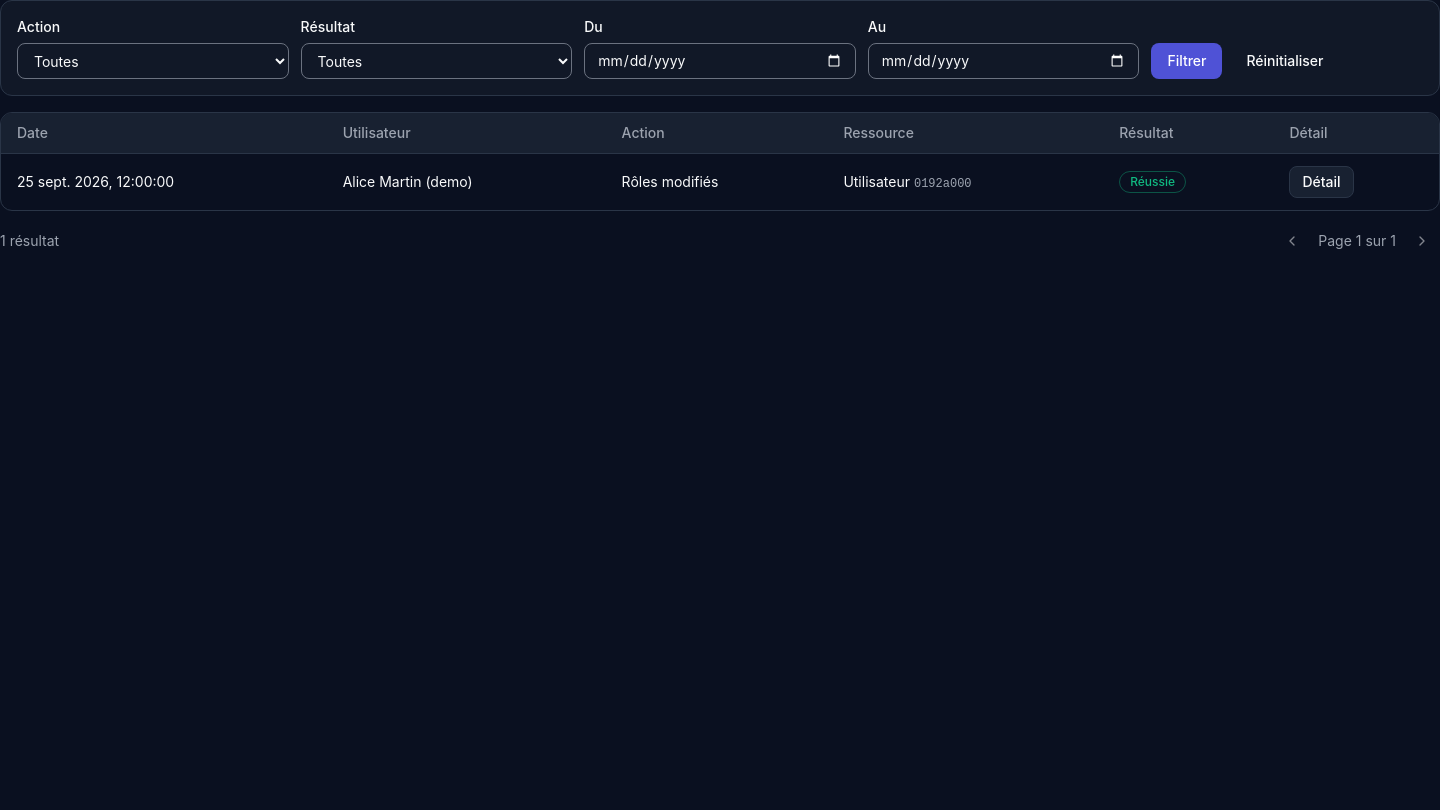
AuditViewer › shows the values before and after the change
Click the button "Détail": {"x": 1322, "y": 182} [1289,166,1354,198]
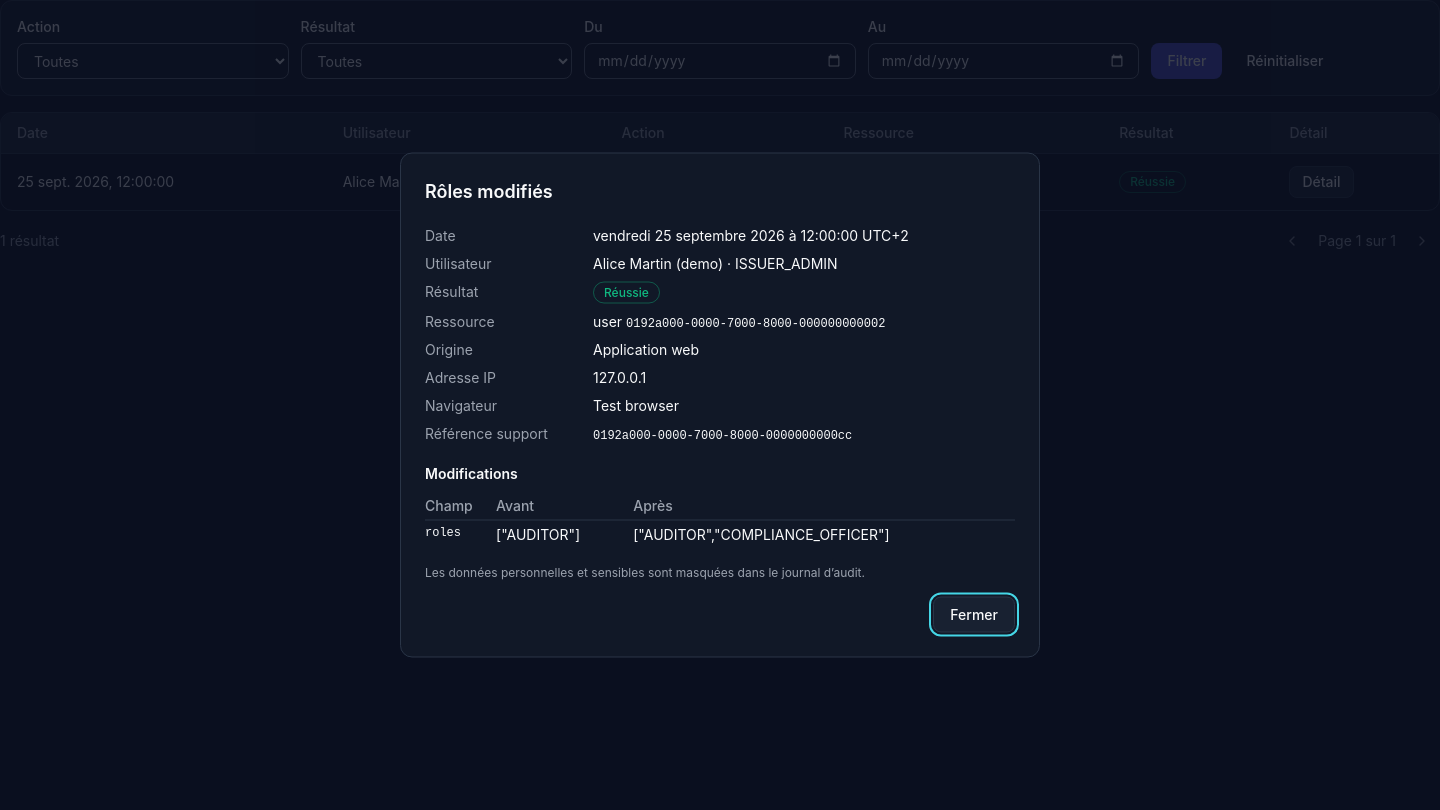
expect the text "[\"AUDITOR\"]" is shown: met, box [496,520,633,548]
expect the text "[\"AUDITOR\",\"COMPLIANCE_OFFICER\"]" is shown: met, box [633,520,1015,548]
